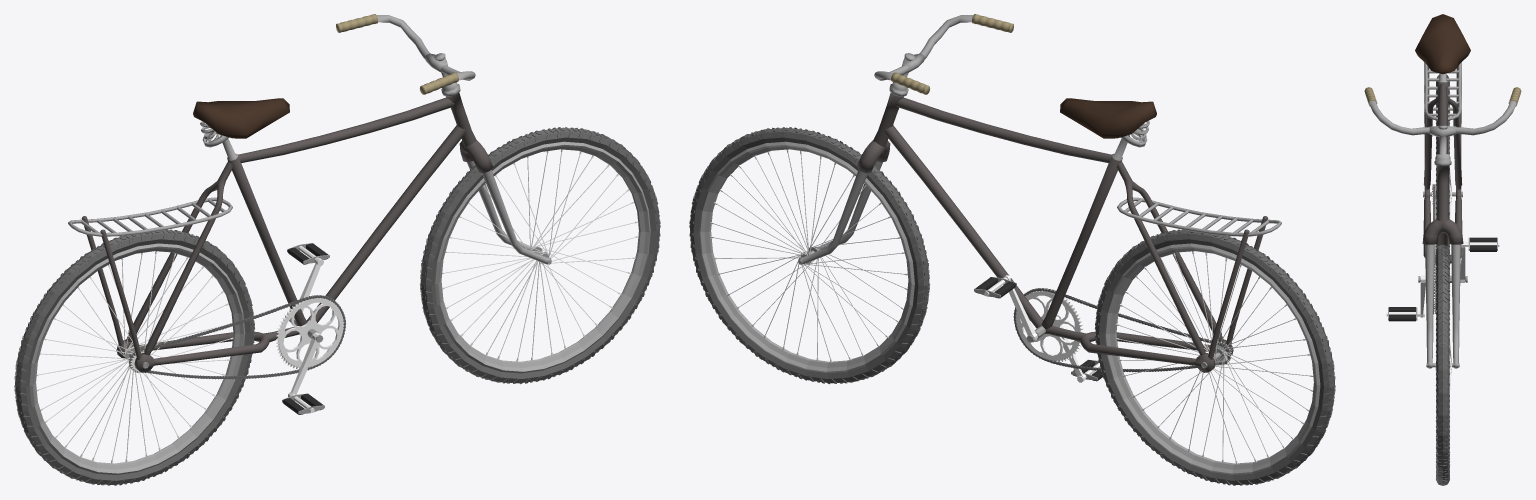
3 views of the same model, side by side, from view 1: azimuth 30°, elevation 25°; view 2: azimuth 150°, elevation 25°; view 3: azimuth 270°, elevation 25° (orthographic). The views are drawn at different scales.
Parts seen in each view (by area): view 1: Bicycle-Body, Bicycle-Front-Tire, Bicycle-Back-Tire, Bicycle-Front-Tire-Ring, Bicycle-Back-Tire-Ring, Bicycle-Seat, Bicycle-Front-Tire-Pattern, Bicycle-Back-Tire-Pattern, Bicycle-Tark, Bicycle-Center-Gear, Bicycle-HandleBars, Bicycle-Chain (+9 smaller); view 2: Bicycle-Body, Bicycle-Front-Tire, Bicycle-Back-Tire, Bicycle-Front-Tire-Ring, Bicycle-Back-Tire-Ring, Bicycle-Seat, Bicycle-Front-Tire-Pattern, Bicycle-Back-Tire-Pattern, Bicycle-Tark, Bicycle-HandleBars, Bicycle-Center-Gear, Bicycle-Chain (+9 smaller); view 3: Bicycle-Body, Bicycle-Front-Tire, Bicycle-Seat, Bicycle-Front-Tire-Pattern, Bicycle-HandleBars, Bicycle-Tark, Bicycle-Pedals, Bicycle-Right-Pedal, Bicycle-Left-Pedal, Bicycle-Hub, Bicycle-Back-Tire, Bicycle-Chain (+1 smaller).
Boxes of the visible parts, x1,y1,x2,y2 form: Bicycle-Body: [81, 53, 551, 372]; Bicycle-Front-Tire: [420, 127, 659, 383]; Bicycle-Back-Tire: [15, 230, 254, 484]; Bicycle-Front-Tire-Ring: [435, 141, 650, 373]; Bicycle-Back-Tire-Ring: [29, 243, 245, 474]; Bicycle-Seat: [193, 98, 289, 147]; Bicycle-Front-Tire-Pattern: [420, 127, 660, 384]; Bicycle-Back-Tire-Pattern: [14, 229, 254, 485]; Bicycle-Tark: [68, 197, 232, 236]; Bicycle-Center-Gear: [279, 298, 343, 366]; Bicycle-HandleBars: [336, 14, 475, 94]; Bicycle-Chain: [128, 295, 345, 379]; Bicycle-Body: [798, 53, 1268, 372]; Bicycle-Front-Tire: [690, 127, 929, 383]; Bicycle-Back-Tire: [1095, 230, 1334, 484]; Bicycle-Front-Tire-Ring: [699, 141, 914, 373]; Bicycle-Back-Tire-Ring: [1104, 243, 1320, 474]; Bicycle-Seat: [1060, 98, 1156, 147]; Bicycle-Front-Tire-Pattern: [689, 127, 929, 384]; Bicycle-Back-Tire-Pattern: [1095, 229, 1335, 485]; Bicycle-Tark: [1117, 197, 1281, 236]; Bicycle-HandleBars: [874, 14, 1013, 94]; Bicycle-Center-Gear: [1016, 291, 1080, 360]; Bicycle-Chain: [1013, 288, 1230, 372]; Bicycle-Body: [1418, 62, 1467, 368]; Bicycle-Front-Tire: [1436, 245, 1449, 484]; Bicycle-Seat: [1415, 14, 1470, 74]; Bicycle-Front-Tire-Pattern: [1436, 244, 1449, 485]; Bicycle-HandleBars: [1364, 87, 1521, 135]; Bicycle-Tark: [1424, 63, 1461, 120]; Bicycle-Pedals: [1386, 241, 1499, 317]; Bicycle-Right-Pedal: [1388, 307, 1417, 321]; Bicycle-Left-Pedal: [1468, 237, 1497, 251]; Bicycle-Hub: [1429, 126, 1456, 137]; Bicycle-Back-Tire: [1436, 81, 1449, 249]; Bicycle-Chain: [1433, 184, 1435, 313].
Bounding box in the file's own units: 15.81 × 8.68 × 3.81.
